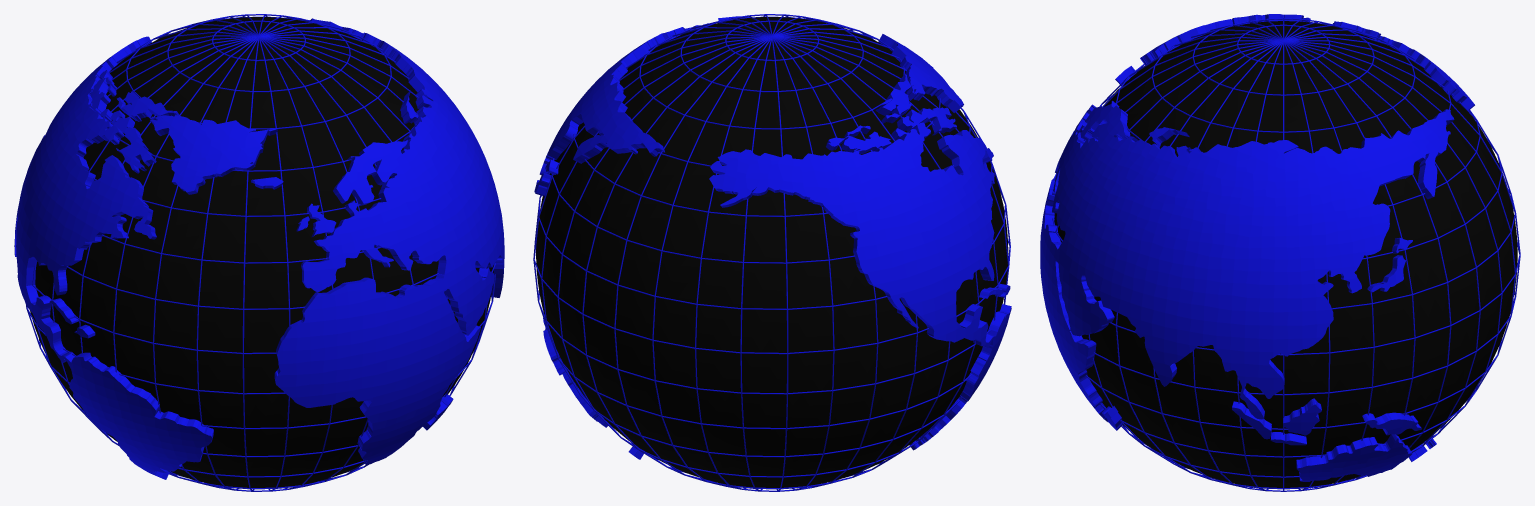
File: boing.glb
The picture shows the model from 3 angles, left to right: view 1: azimuth 30°, elevation 25°; view 2: azimuth 150°, elevation 25°; view 3: azimuth 270°, elevation 25°; orthographic projection.
Visible parts, largest first — view 1: Sphere wire; view 2: Sphere wire; view 3: Sphere wire.
Boxes of the visible parts, x1=… form: Sphere wire: x1=14, y1=14, x2=504, y2=491; Sphere wire: x1=533, y1=14, x2=1011, y2=491; Sphere wire: x1=1040, y1=14, x2=1520, y2=491.
Size of the model in its own units: 2.08 by 2.03 by 2.05.
